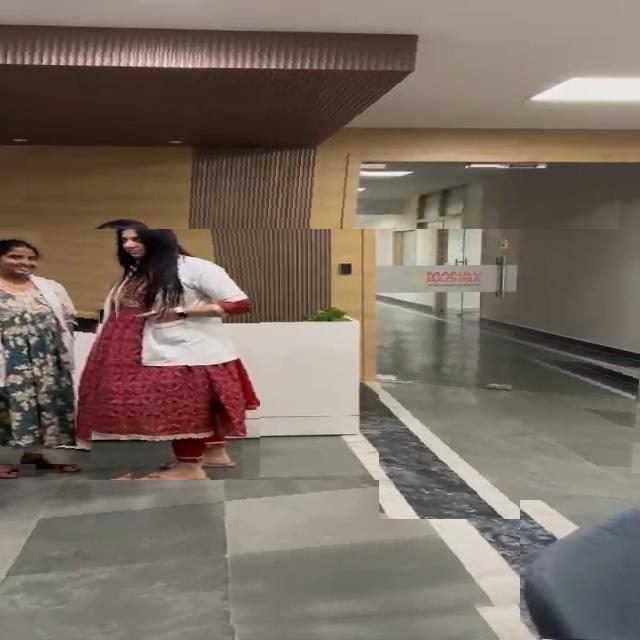floor: (0, 480, 550, 640), (379, 343, 640, 519)
furniture: (520, 500, 640, 640)
moving_object: (107, 216, 260, 488), (0, 234, 105, 464)
wall: (0, 5, 640, 229)
